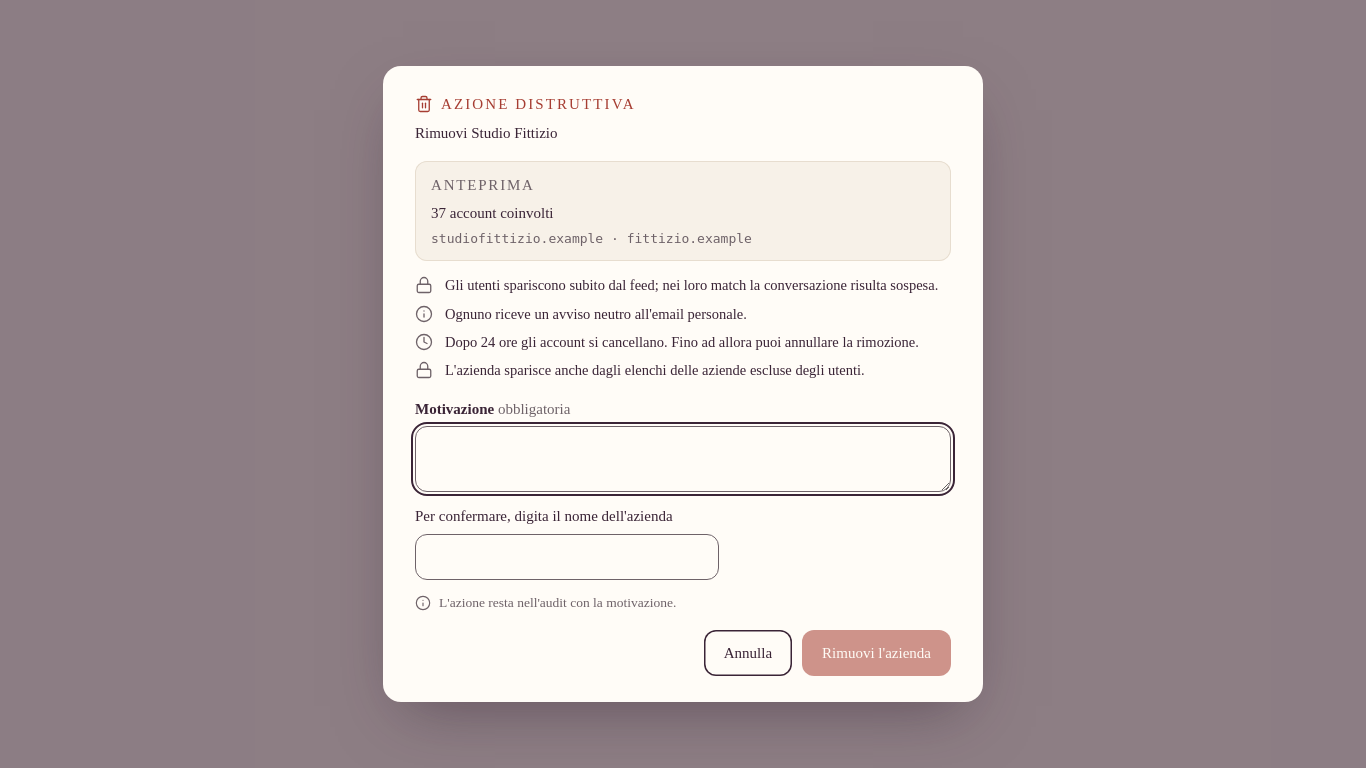
Test: finestra di rimozione con conferma rafforzata (mockup 18b, D93) › mostra anteprima ed effetti; conferma solo con il nome esatto
This screenshot has width=1366, height=768.
Expected: the dialog "Rimuovi Studio Fittizio" is shown, [383, 66, 983, 702]
Expected: the text "37 account coinvolti" is shown, [431, 205, 554, 221]
Type "studio fittizio" into the field labelled "Per confermare, digita il nome dell'azienda" at (567,557), box [415, 534, 720, 580]
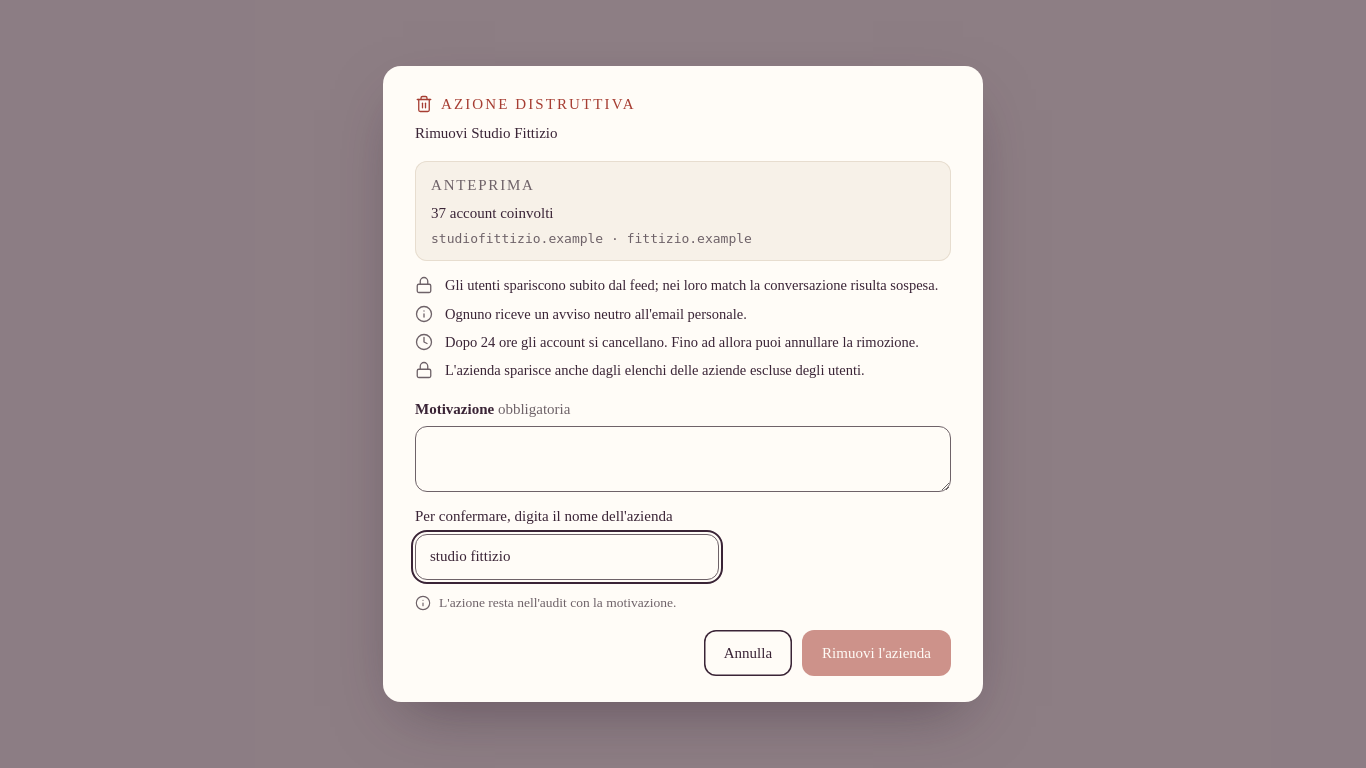
Expected: the button "Rimuovi l'azienda" is disabled, [802, 630, 951, 676]
Replace the text in the field labelled "Per confermare, digita il nome dell'azienda" with "Studio Fittizio" at (567,557), box [415, 534, 720, 580]
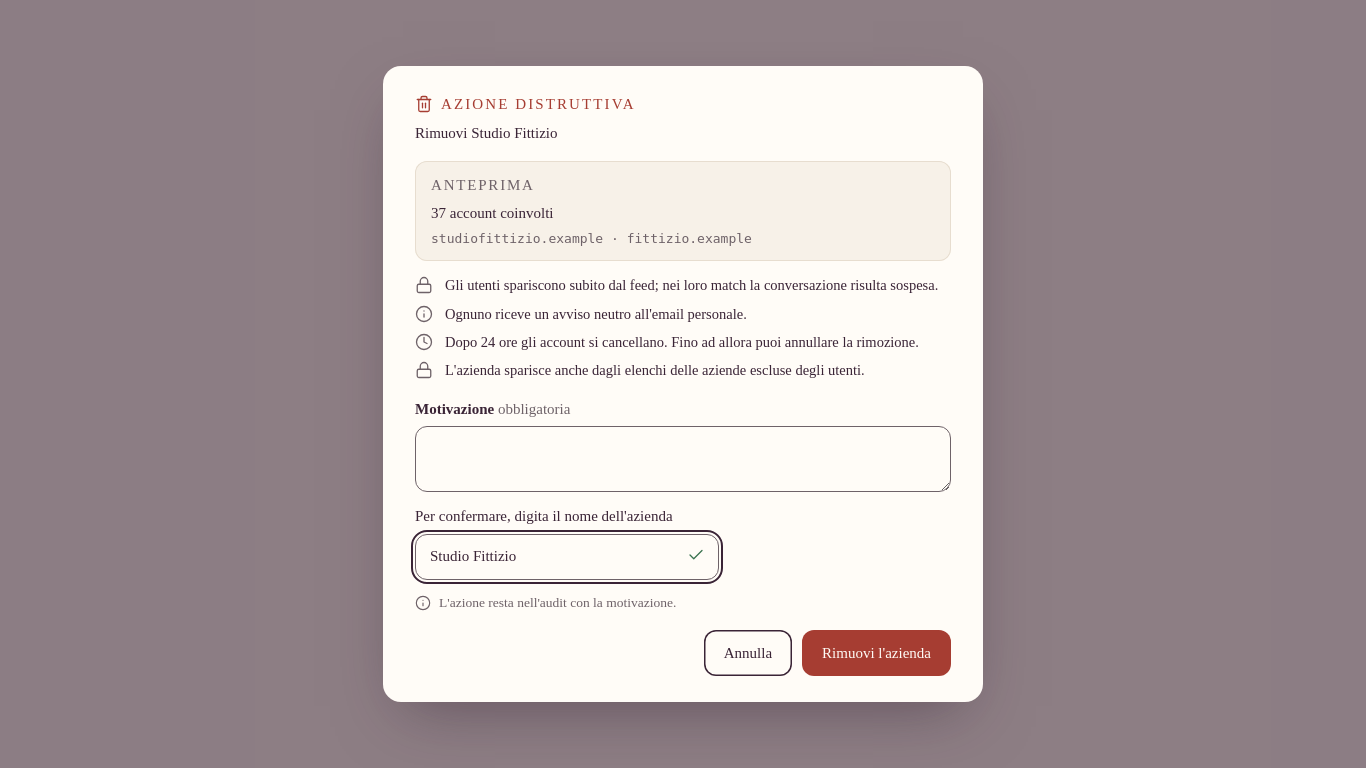
Now the button "Rimuovi l'azienda" is enabled, box [802, 630, 951, 676]
